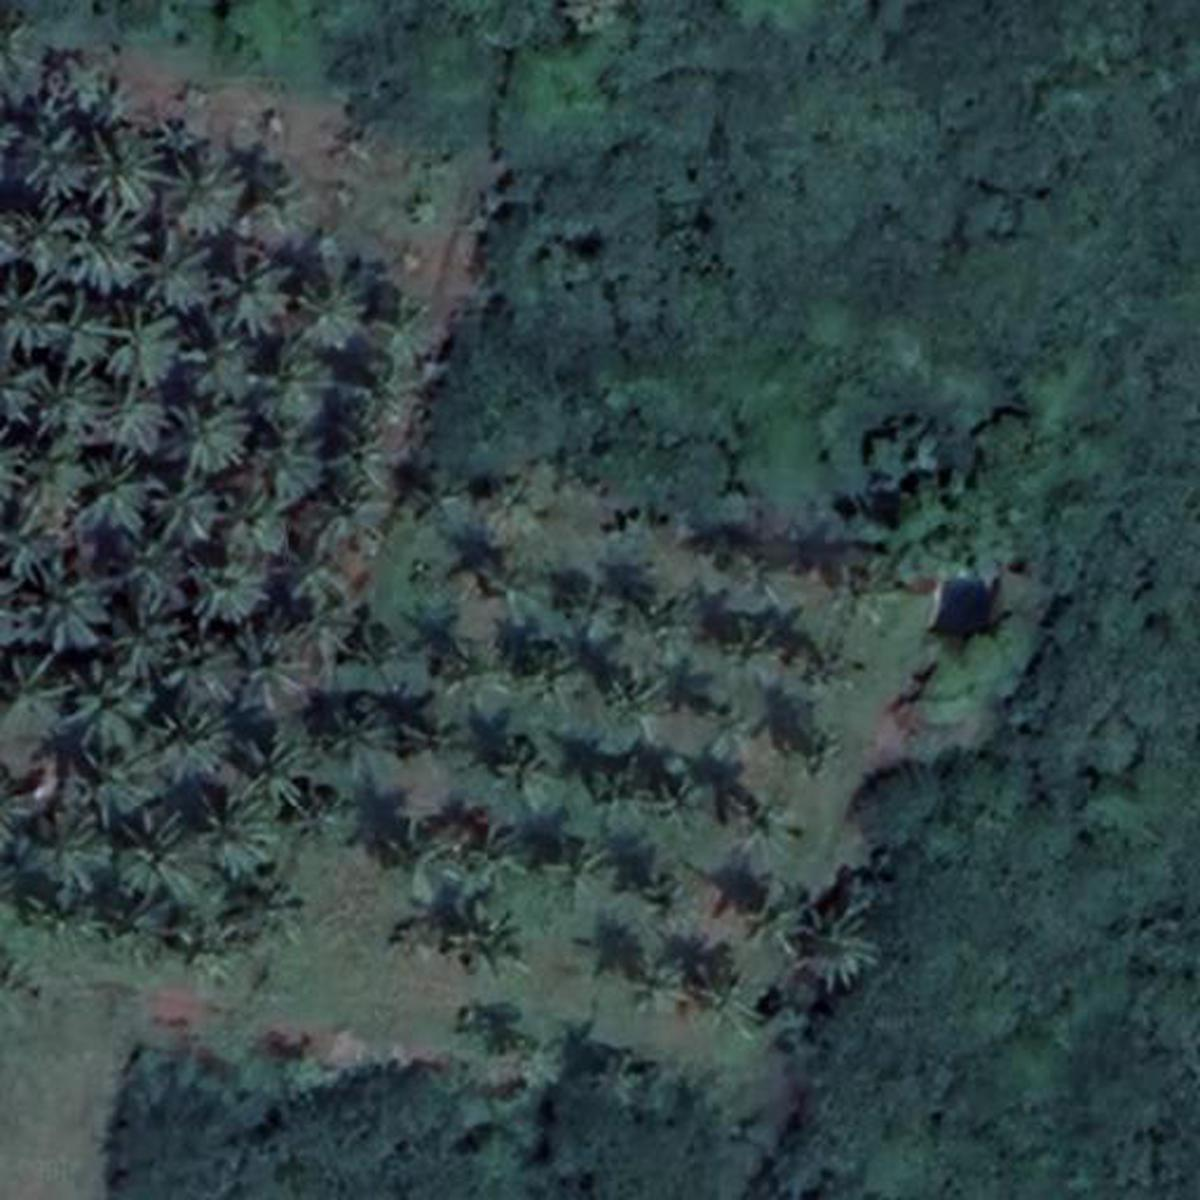coconut: (782, 900, 881, 996), (16, 816, 119, 907), (149, 164, 248, 248), (91, 131, 182, 220), (438, 895, 532, 979), (318, 693, 414, 775), (119, 808, 213, 890), (216, 876, 311, 958), (16, 121, 98, 213), (300, 267, 389, 351), (16, 571, 116, 644), (77, 665, 164, 747), (234, 627, 318, 712), (77, 210, 159, 295), (152, 700, 234, 782), (234, 157, 321, 234), (492, 742, 576, 816), (67, 745, 142, 827), (238, 735, 321, 810), (7, 205, 84, 285), (178, 405, 260, 478), (216, 264, 300, 335), (116, 309, 189, 389), (541, 834, 625, 902), (93, 892, 173, 965), (611, 949, 693, 1019), (693, 953, 759, 1038), (373, 292, 438, 377), (37, 365, 126, 427), (335, 416, 405, 495), (735, 789, 810, 862), (630, 595, 707, 665), (145, 236, 216, 311), (278, 536, 353, 607), (7, 764, 58, 862), (18, 454, 100, 513), (454, 827, 532, 890), (4, 656, 63, 738), (829, 567, 904, 630), (124, 538, 201, 600), (505, 646, 584, 707), (0, 278, 65, 351), (114, 609, 182, 675), (2, 520, 75, 581), (216, 492, 290, 553), (262, 435, 335, 496), (799, 625, 857, 700), (208, 810, 278, 869), (180, 925, 253, 982), (201, 567, 267, 627), (264, 360, 332, 419), (588, 766, 651, 829), (91, 468, 159, 525), (159, 473, 229, 529), (642, 874, 700, 937), (724, 621, 789, 675), (600, 673, 665, 721), (173, 646, 227, 700), (203, 344, 257, 398), (658, 778, 712, 832), (435, 644, 485, 698), (297, 810, 360, 848)
